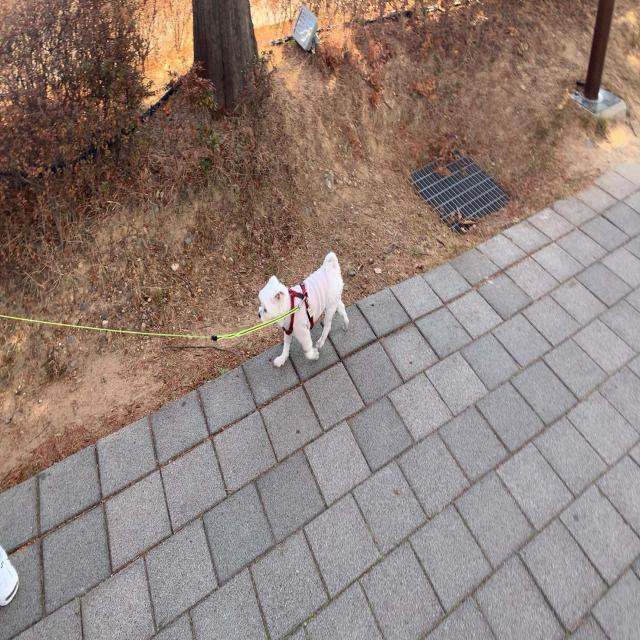Dog: (259, 251, 349, 367)
